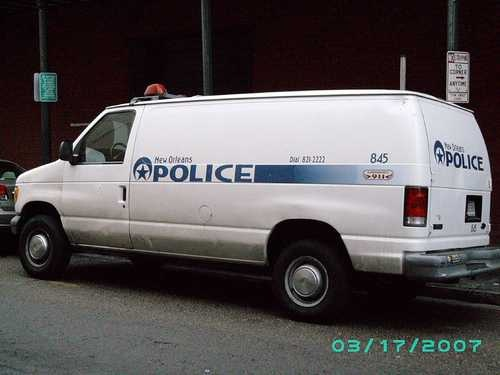Police Van: (11, 69, 488, 311)
